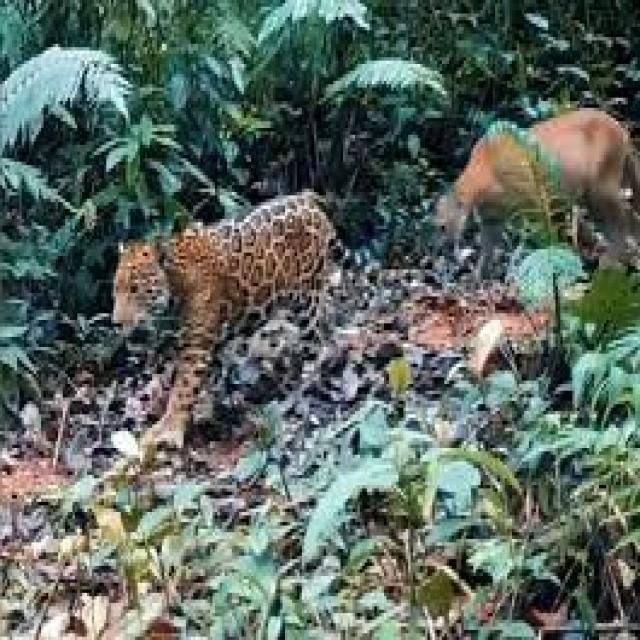Jaguar: (111, 185, 396, 448)
